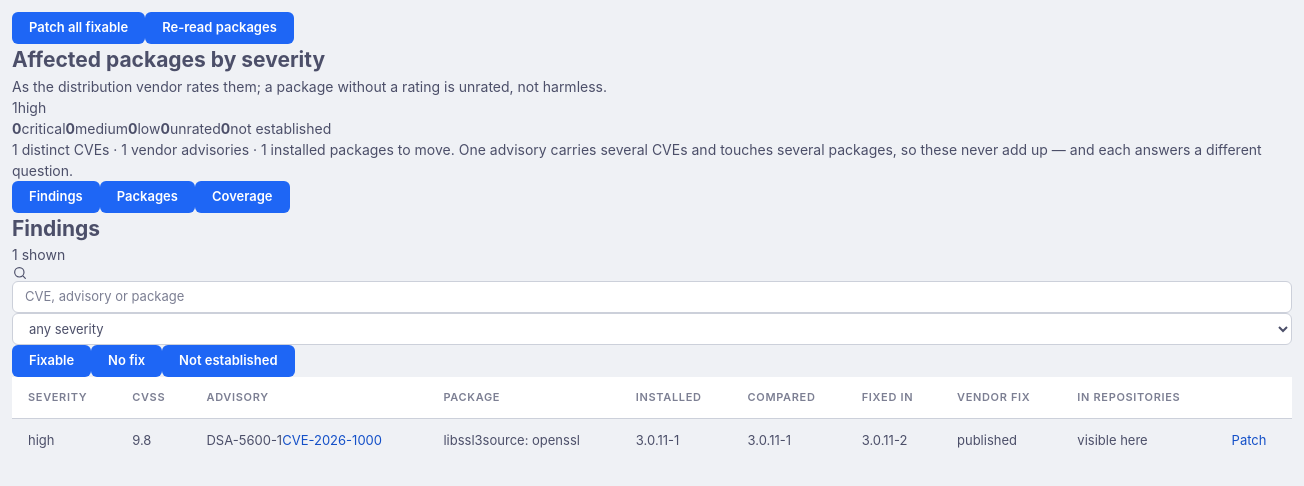
Test case: what the vendor says about this host › re-reads the package list through an ordinary job
Click the button with test id "reread" at (219, 28), box [145, 12, 294, 44]
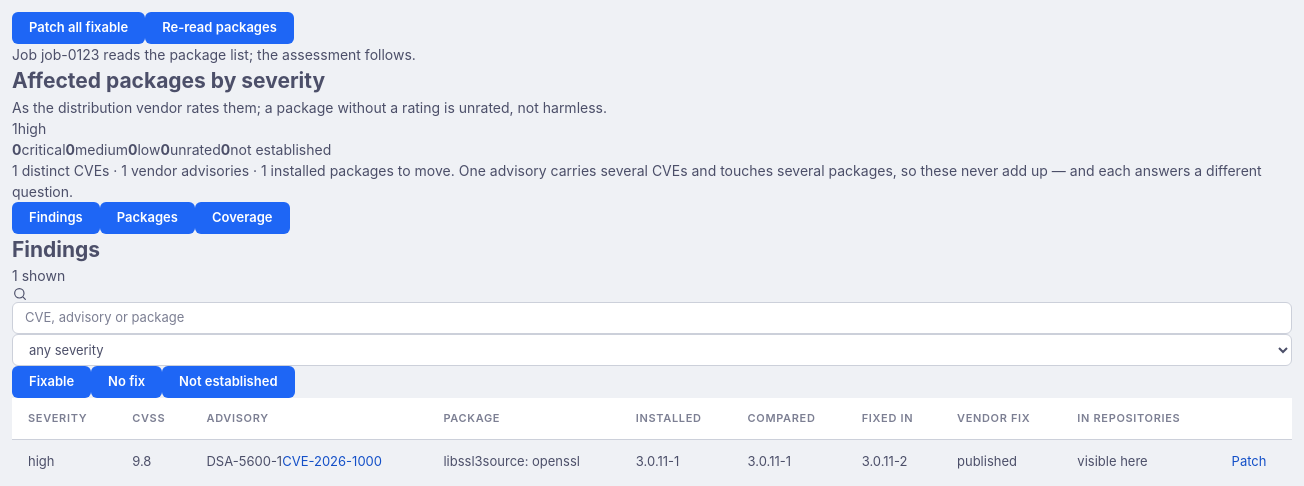
Check: the text "Job job-0123 reads the package list; the assessment follows." is shown, box [12, 46, 416, 63]
